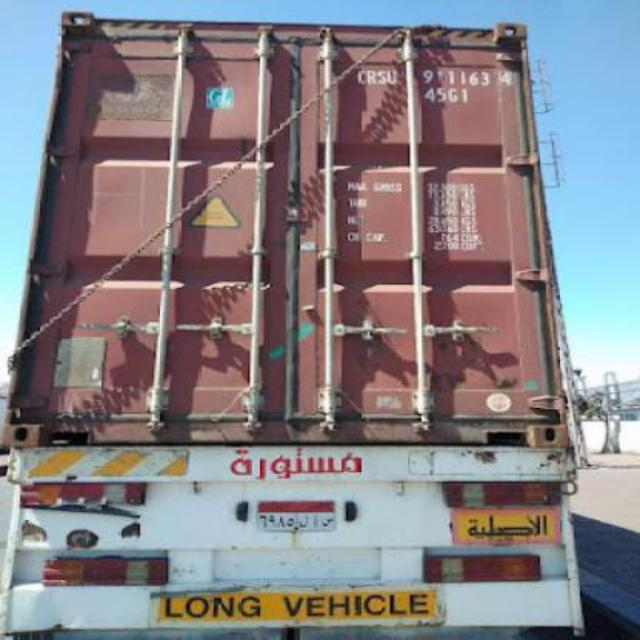1: (436, 67, 446, 85), (458, 69, 468, 87), (446, 69, 456, 85)
3: (481, 69, 494, 87)
4: (498, 70, 512, 86)
6: (468, 69, 480, 87)
9: (422, 67, 434, 83)
C: (352, 67, 368, 85)
R: (368, 67, 378, 87)
S: (376, 69, 389, 85)
U: (386, 69, 399, 87)
